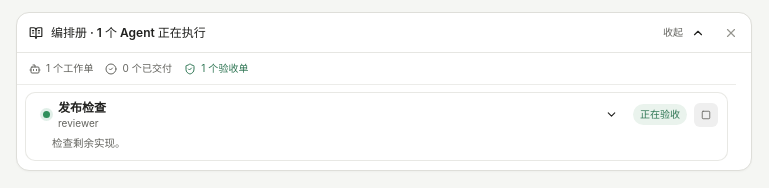
Scenario: Codex conversation controls › keeps a running orchestration collapsed after the user collapses it
Expected: the text "发布检查" is shown, [58, 100, 106, 114]
Click the button "编排册 · 1 个 Agent 正在执行 收起". click: x=128, y=32
box: [17, 13, 717, 52]
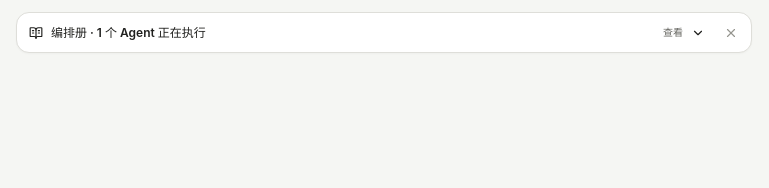
Result: the button "编排册 · 1 个 Agent 正在执行 查看" is collapsed at [17, 13, 717, 52]
Result: the button "发布检查" is gone
